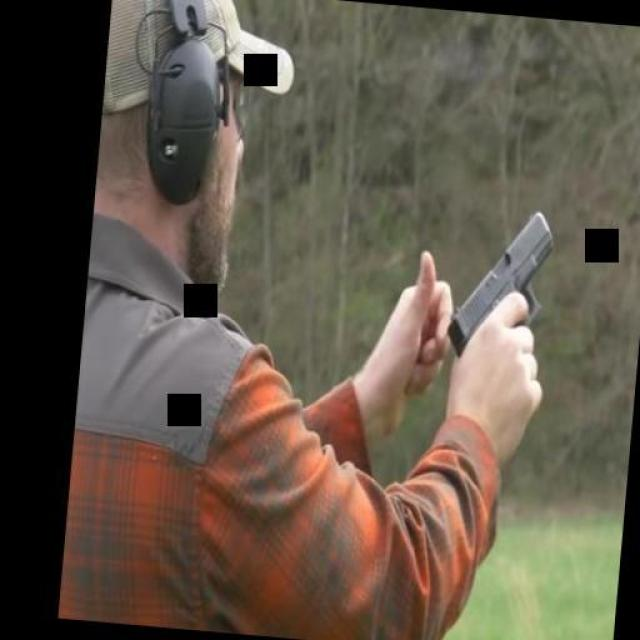gun: (435, 198, 564, 408)
